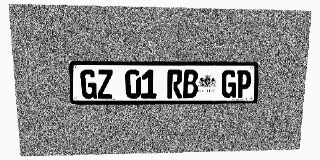0: (125, 70, 141, 99)
1: (141, 70, 156, 99)
B: (183, 70, 198, 98)
G: (80, 70, 97, 99), (221, 70, 237, 98)
P: (236, 70, 252, 98)
R: (167, 70, 183, 98)
Z: (97, 70, 113, 99)
